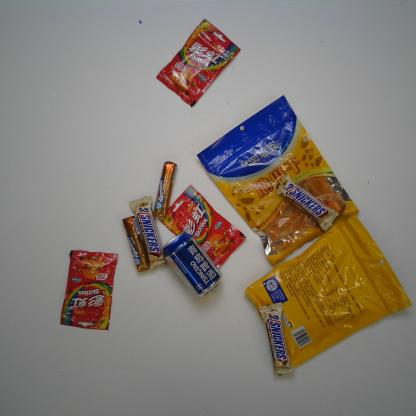Alcohol: (161, 230, 223, 298)
Candy: (155, 16, 243, 108), (159, 184, 247, 270), (58, 249, 118, 332), (121, 215, 150, 273), (152, 160, 179, 219)
Chocolate: (277, 174, 340, 232), (129, 194, 167, 271), (258, 302, 296, 376)
Dried Fruit: (195, 94, 361, 266), (242, 214, 412, 374)
